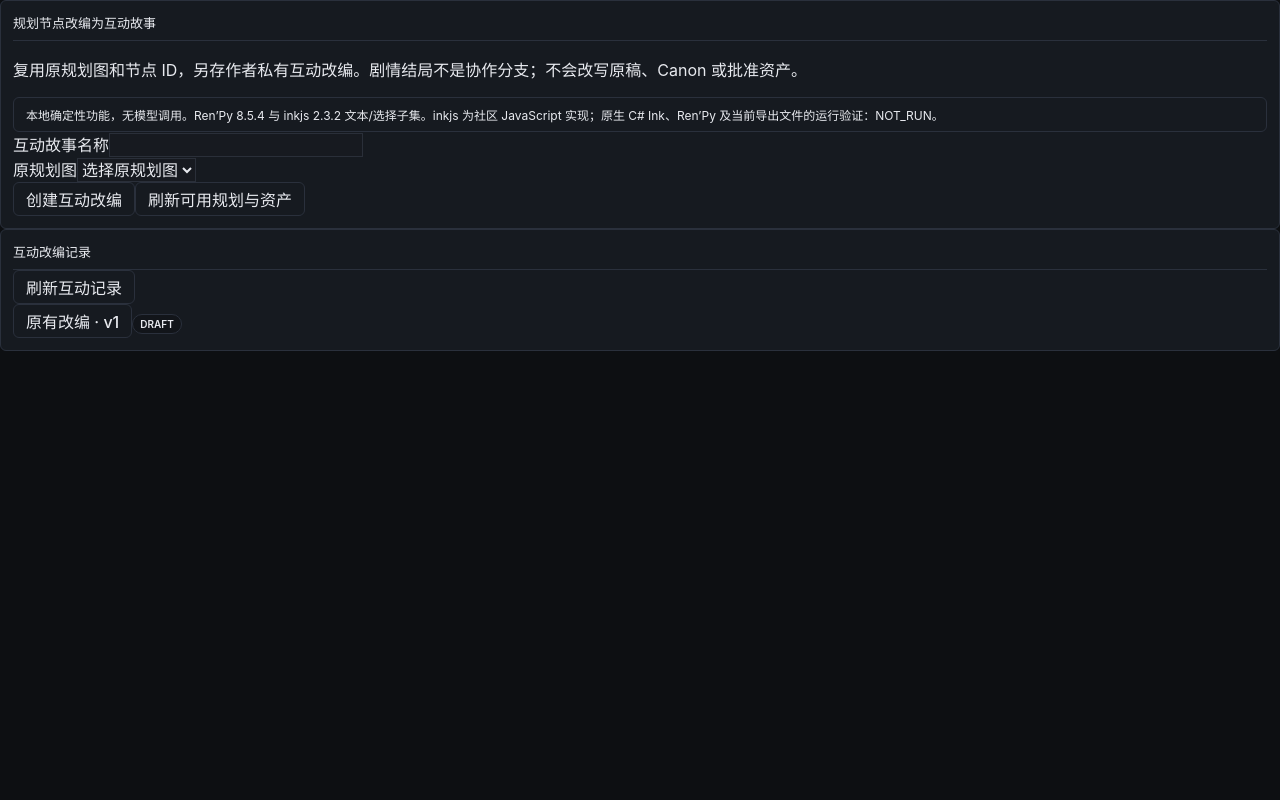
Test: fails closed for graph-version without repinning
Click the button "原有改编 · v1" at [73, 321], box [13,304,132,338]
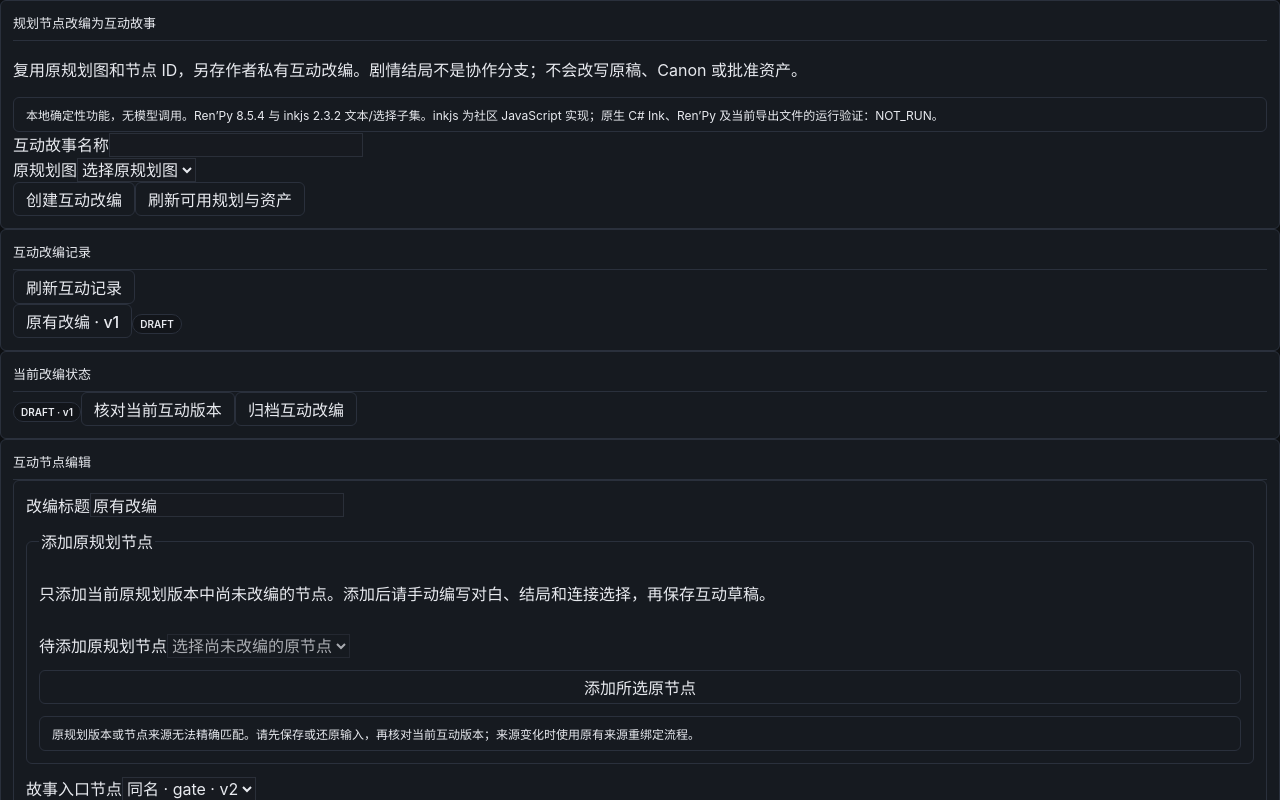
expect the dropdown labelled "待添加原规划节点" is disabled: met, box [167,634,350,658]
expect the button "添加所选原节点" is disabled: met, box [39,670,1241,704]
expect the text "原规划版本或节点来源无法精确匹配。请先保存或还原输入，再核对当前互动版本；来源变化时使用原有来源重绑定流程。" is shown: met, box [39,716,1241,751]
